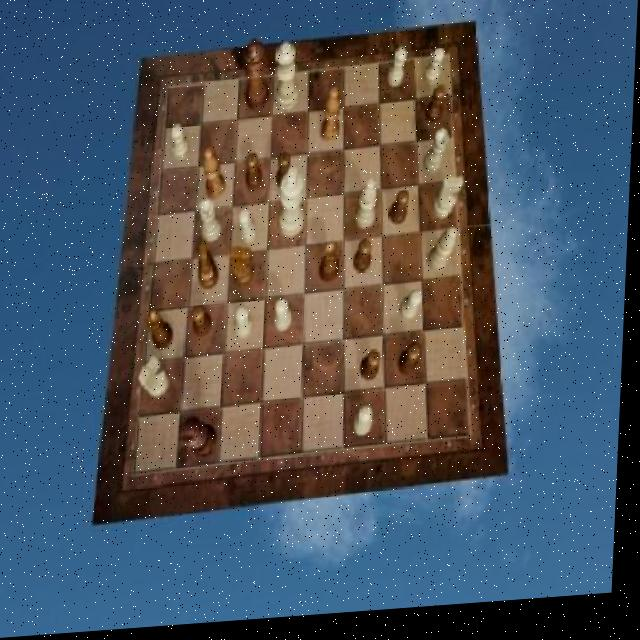bishop: (203, 149, 228, 205), (321, 92, 342, 148)
black-bishop: (183, 418, 222, 462)
black-king: (199, 247, 222, 294), (231, 249, 257, 290)
black-knight: (426, 92, 447, 131), (193, 308, 215, 344), (402, 350, 424, 384), (391, 196, 412, 231), (247, 156, 265, 195), (363, 357, 384, 389), (277, 156, 295, 193), (357, 245, 375, 280)
black-pawn: (242, 42, 272, 116)
black-queen: (148, 312, 176, 355), (322, 247, 343, 288)
black-rook: (430, 234, 459, 280), (357, 183, 379, 236)
white-bishop: (280, 171, 307, 243)
white-king: (141, 357, 174, 401), (434, 183, 465, 227)
white-knight: (387, 53, 408, 94), (423, 54, 445, 93), (400, 296, 424, 330), (172, 126, 190, 164), (276, 301, 295, 336), (236, 309, 255, 344), (240, 212, 258, 248), (357, 411, 377, 443)
white-pawn: (274, 45, 301, 116)
white-queen: (424, 135, 450, 182), (200, 202, 225, 247)
